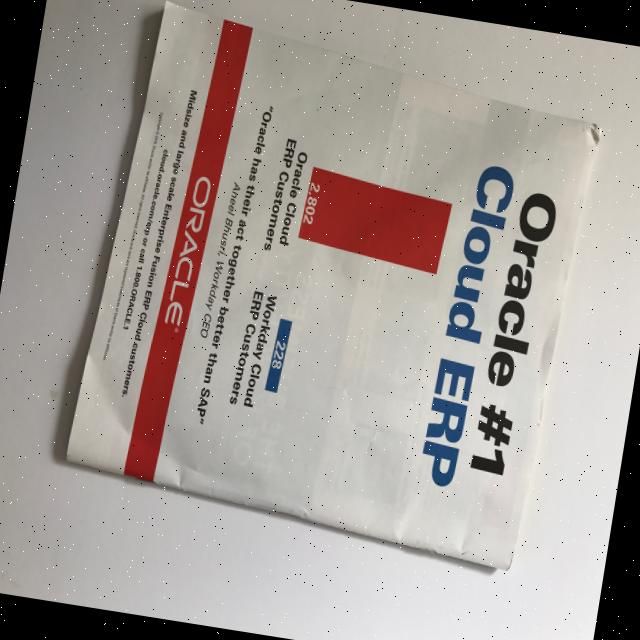paper: (58, 0, 611, 575)
